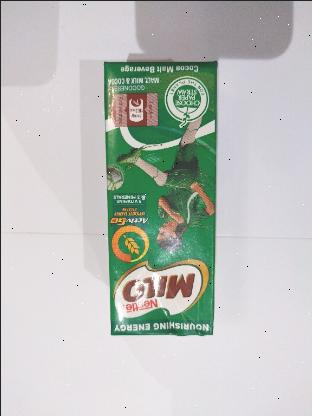Others: (102, 60, 220, 338)
